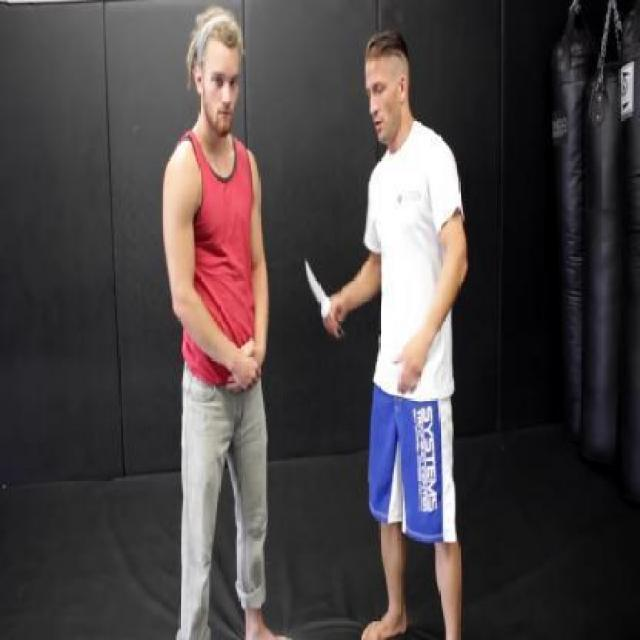-: (302, 248, 349, 345)
